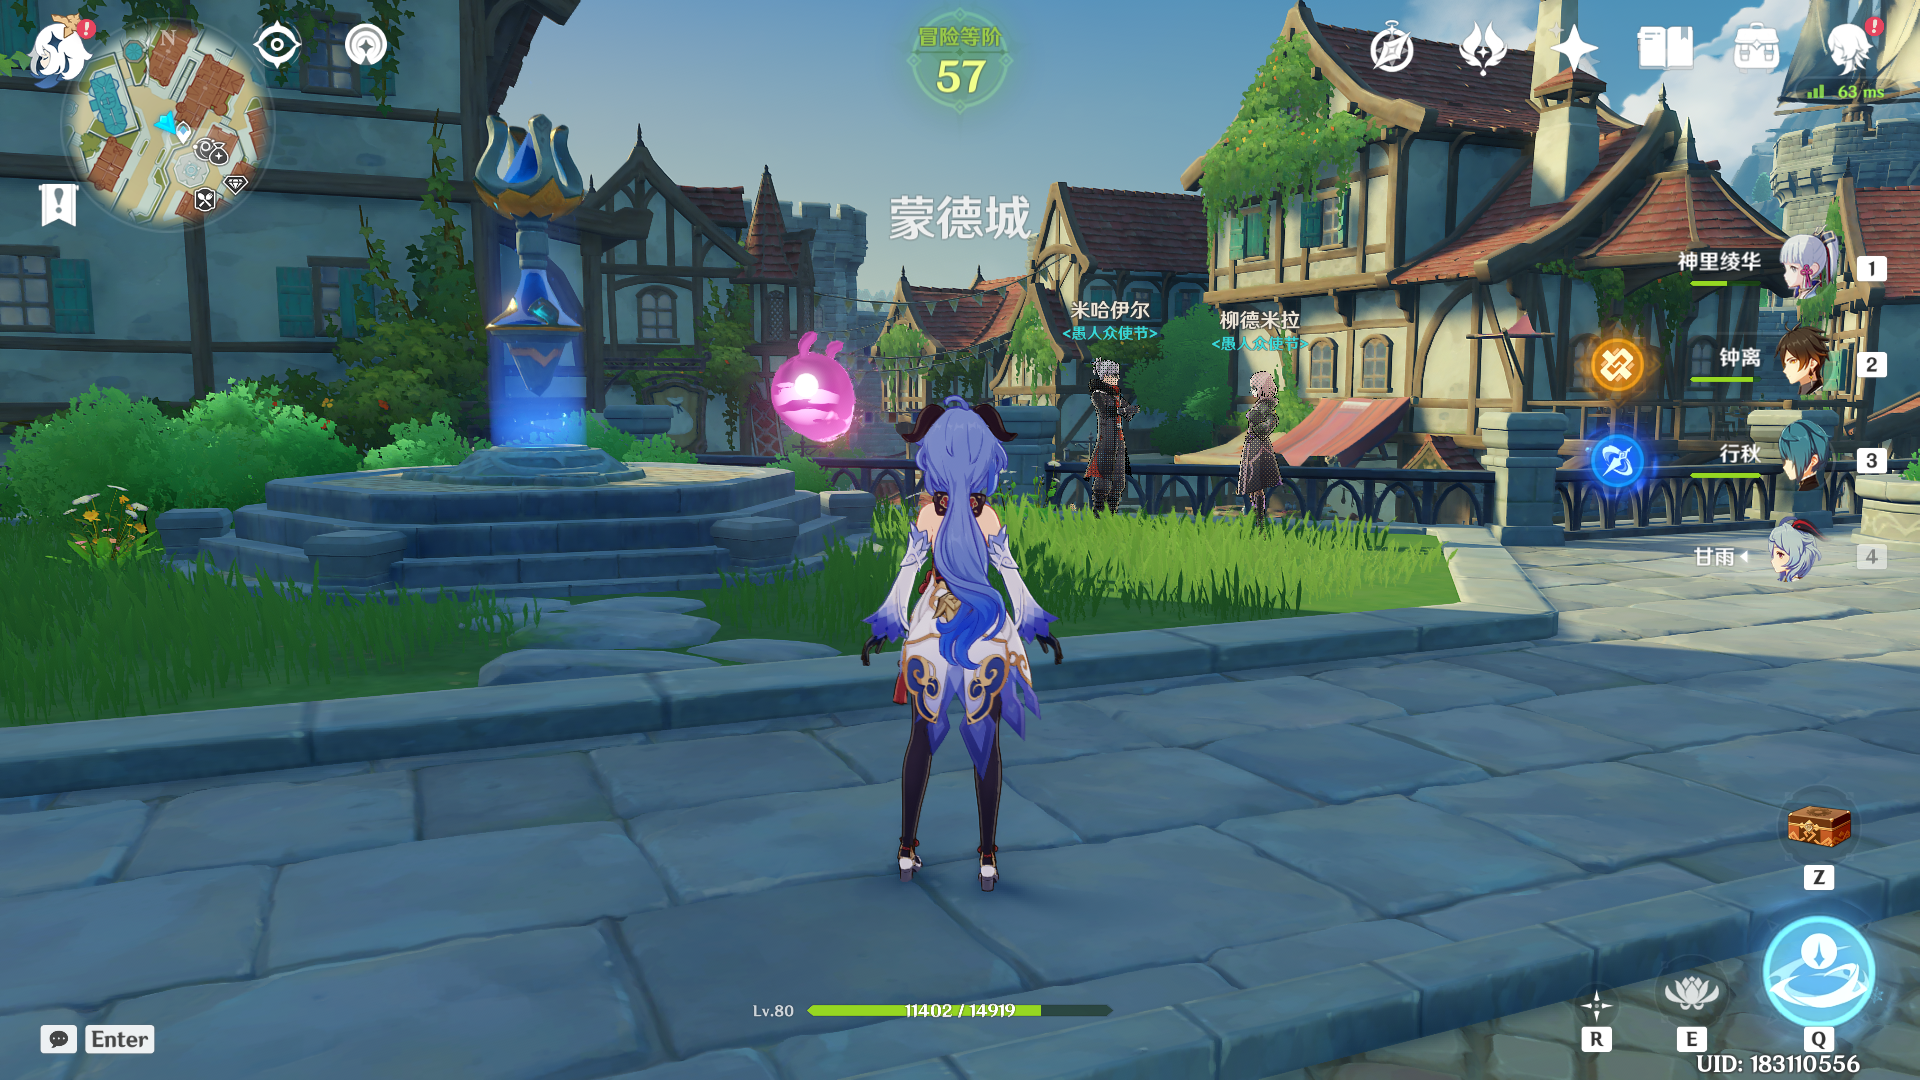character: (765, 348, 1130, 964)
